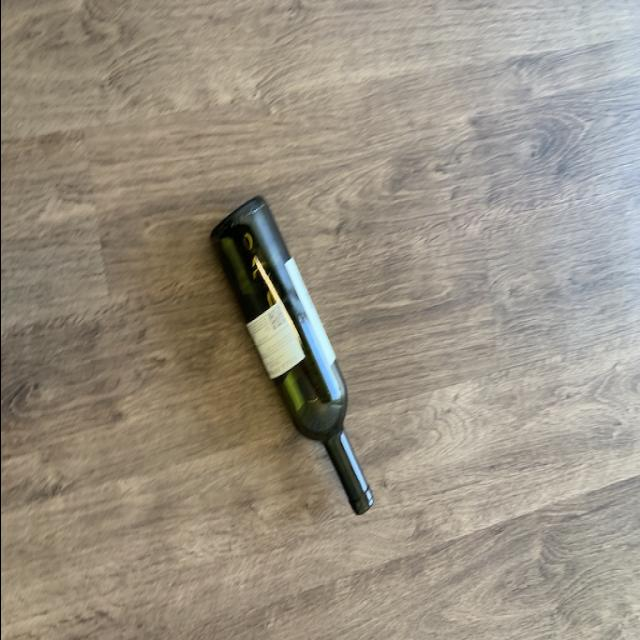litter: (205, 186, 372, 516)
